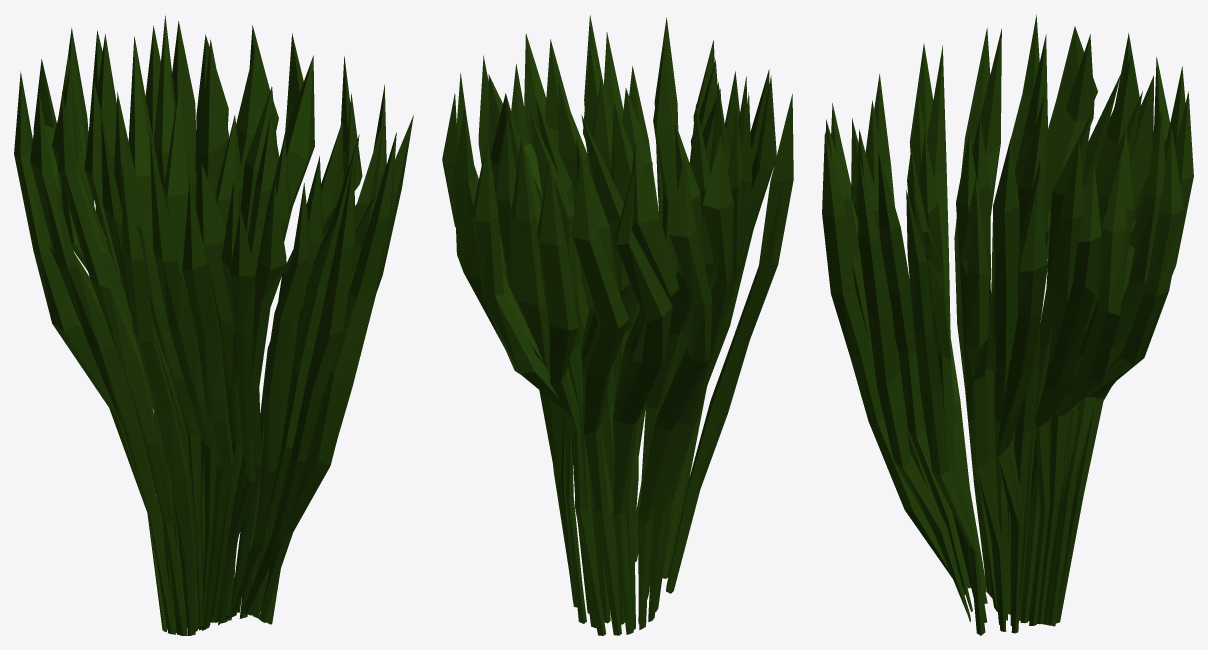
Rendered from Grass_3.FBX.
3 renders of one model, left to right at view 1: azimuth 30°, elevation 25°; view 2: azimuth 150°, elevation 25°; view 3: azimuth 270°, elevation 25°, orthographic. The views are drawn at different scales.
Parts seen in each view (by area): view 1: Grass3; view 2: Grass3; view 3: Grass3.
Part boxes in pixels (x1,y1,x2,y2): Grass3: (14,15,413,635); Grass3: (442,15,793,635); Grass3: (822,14,1193,635).
Size of the model in its own units: 14.46 by 25.97 by 15.9.
